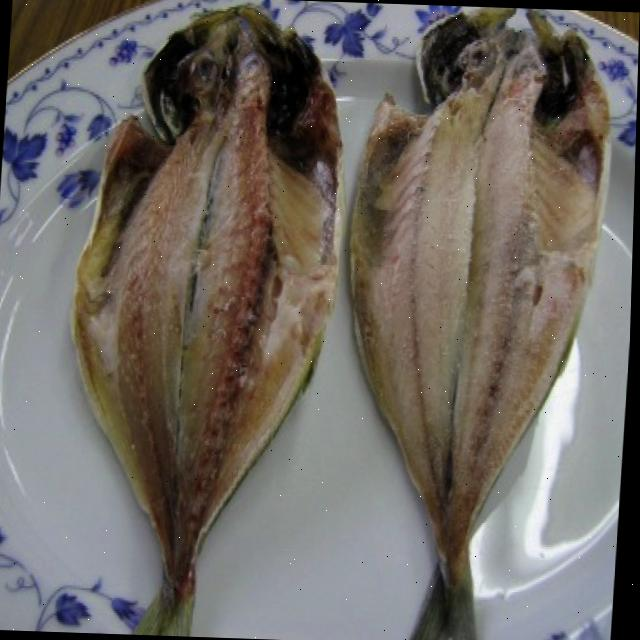熟制海鲜: (49, 0, 616, 640)
